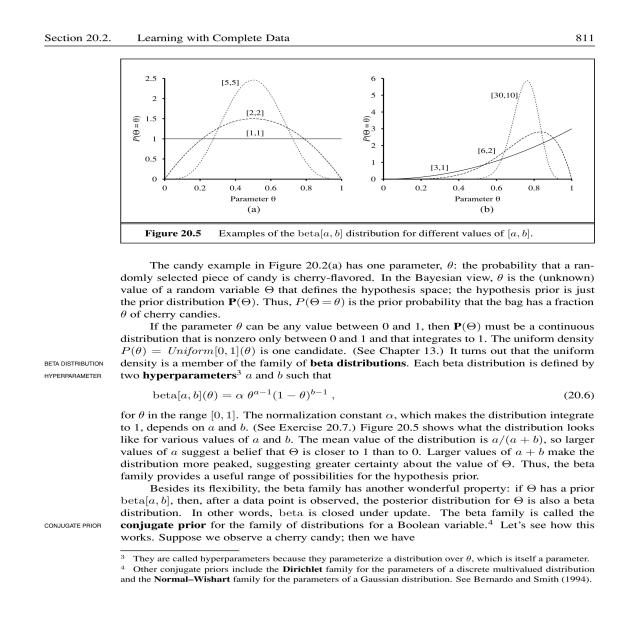diagram: (121, 59, 597, 244)
